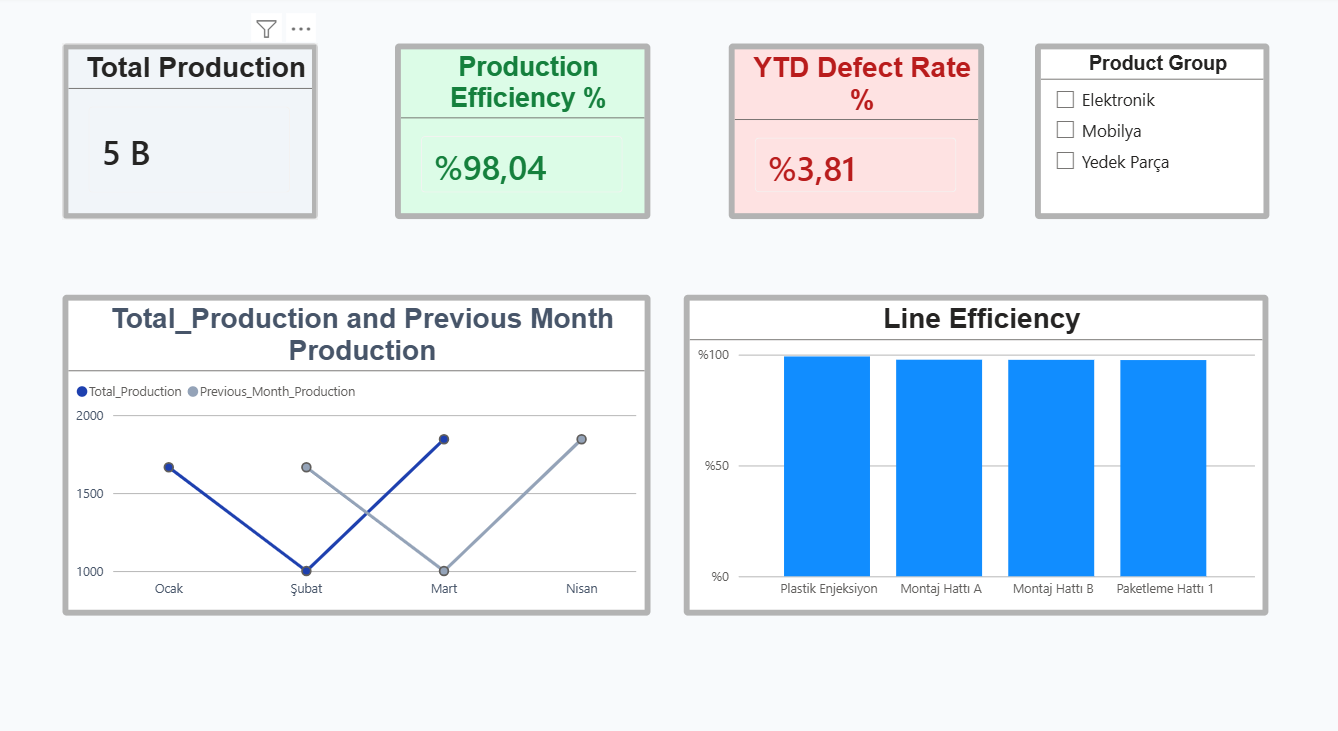

Layout of this report page (visuals, bound fields, positions):
{"tool":"powerbi","page":{"name":"Executive Summary","canvas":[1280,720],"ordinal":0},"visuals":[{"type":"cardVisual","title":"Total Production","fields":{"Data":["_Measures.Total_Production"]},"box":[64.3,45.7,242.9,167.1],"z":0},{"type":"cardVisual","title":"Production Efficiency %","fields":{"Data":["_Measures.Production_Efficiency_%"]},"box":[381.4,45.7,242.9,167.1],"z":1},{"type":"cardVisual","title":"YTD Defect Rate %","fields":{"Data":["_Measures.YTD_Defect_Rate_%"]},"box":[698.6,45.7,242.9,167.1],"z":2},{"type":"lineChart","title":"Total_Production and Previous Month Production","fields":{"Y":["_Measures.Total_Production","_Measures.Previous_Month_Production"],"Category":["Calendar.Date.Varyasyon.Tarih Hiyerarşisi.Ay"]},"box":[64.3,284.3,560,305.7],"z":3},{"type":"clusteredColumnChart","title":"Line Efficiency","fields":{"Category":["ProductionLines.Hat_Adi"],"Y":["_Measures.Production_Efficiency_%"]},"box":[655.7,284.3,557.1,305.7],"z":4},{"type":"slicer","title":"Product Group","fields":{"Values":["ProductionLines.Urun_Grubu"]},"box":[990,45.7,222.9,167.1],"z":5}]}

Visuals, with their boxes in screenshot pixels (x1, y1, x2, y2), scaled from the page's 1280x720 canvas onto the 1338x731 screenshot:
"Total Production" cardVisual: [67, 46, 321, 216]
"Production Efficiency %" cardVisual: [399, 46, 653, 216]
"YTD Defect Rate %" cardVisual: [730, 46, 984, 216]
"Total_Production and Previous Month Production" lineChart: [67, 289, 653, 599]
"Line Efficiency" clusteredColumnChart: [685, 289, 1268, 599]
"Product Group" slicer: [1035, 46, 1268, 216]
